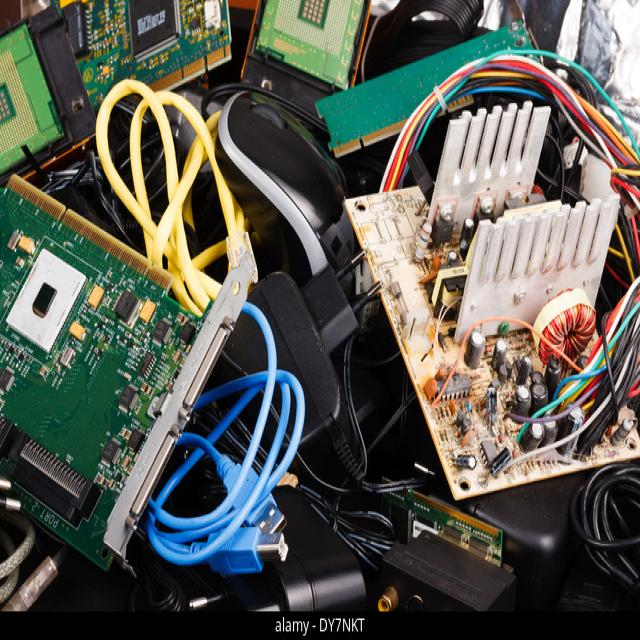metal: (303, 129, 617, 475), (196, 412, 480, 618), (14, 179, 180, 514), (37, 10, 366, 139)
